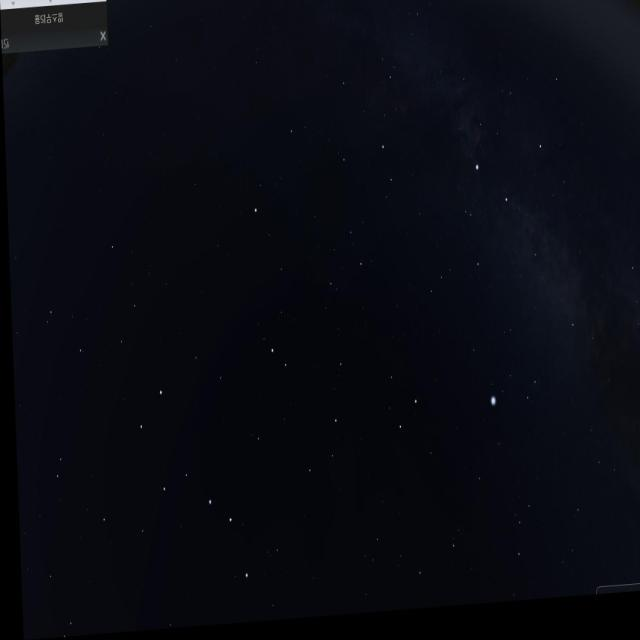cygnus: (456, 108, 584, 343)
lyra: (482, 358, 540, 432)
ursa_major: (128, 375, 250, 604)
